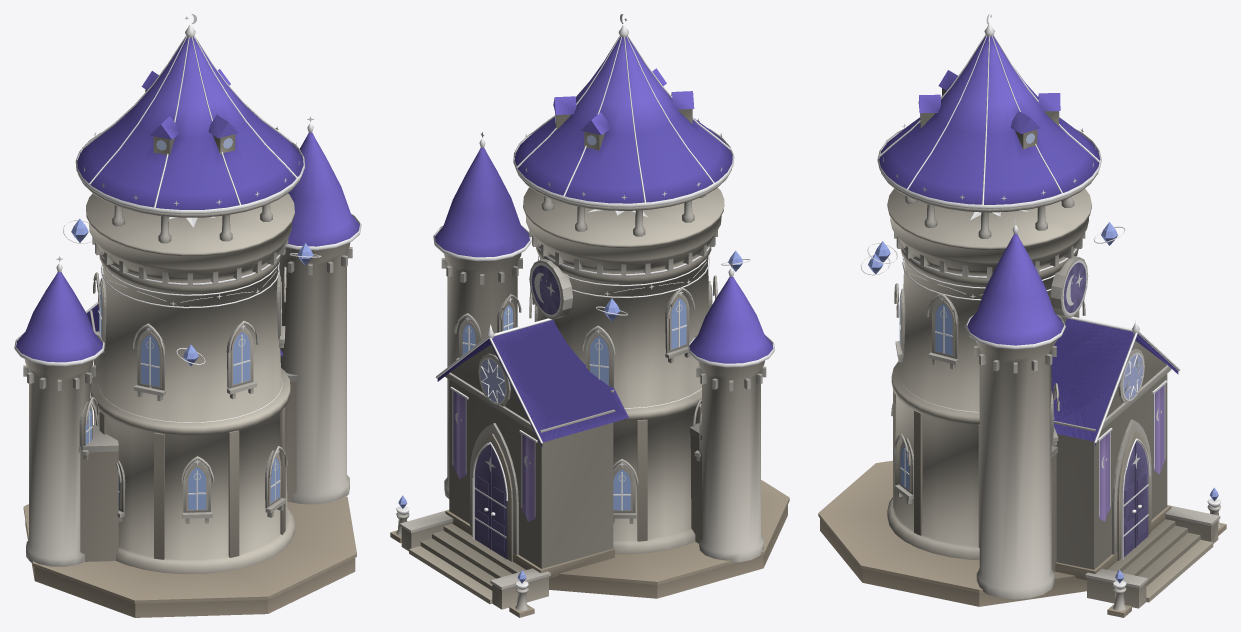
Rendered from mage_hq.glb.
3 renders of one model, left to right at view 1: azimuth 30°, elevation 25°; view 2: azimuth 150°, elevation 25°; view 3: azimuth 270°, elevation 25°, orthographic. The views are drawn at different scales.
Parts seen in each view (by area): view 1: Mage_stone, Mage_roof, Mage_gold, Mage_glow; view 2: Mage_stone, Mage_roof, Mage_gold, Mage_props, Mage_glow; view 3: Mage_stone, Mage_roof, Mage_gold, Mage_props, Mage_glow.
Part boxes in pixels (x1,y1,x2,y2): Mage_stone: (23, 89, 356, 617); Mage_roof: (16, 37, 359, 362); Mage_gold: (14, 14, 361, 509); Mage_glow: (71, 138, 313, 509); Mage_stone: (390, 109, 789, 617); Mage_roof: (435, 36, 773, 446); Mage_gold: (396, 14, 774, 589); Mage_props: (452, 265, 560, 559); Mage_glow: (398, 114, 742, 583); Mage_stone: (818, 88, 1226, 617); Mage_roof: (879, 36, 1178, 446); Mage_gold: (860, 14, 1220, 589); Mage_props: (1063, 262, 1165, 557); Mage_glow: (868, 111, 1218, 583).
Size of the model in its own units: 13.27 by 19.98 by 14.18.
